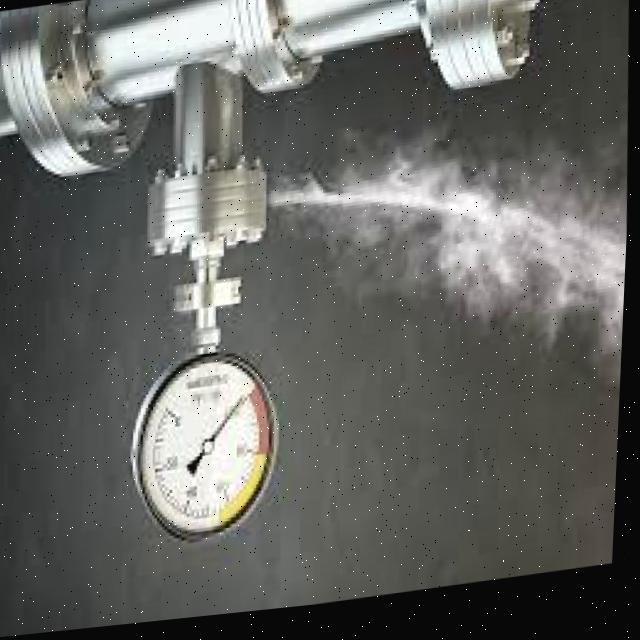corrosion: (237, 83, 457, 271)
